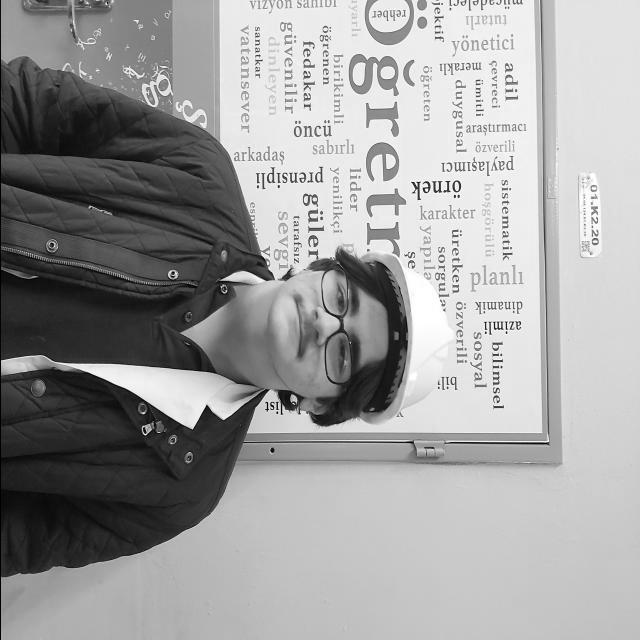construction helmet: (382, 258, 447, 415)
